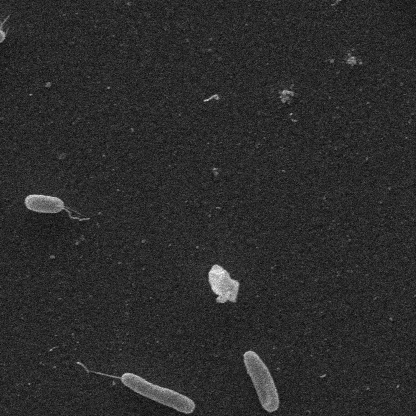cell: (120, 372, 196, 415), (242, 349, 281, 412), (206, 261, 238, 303), (389, 0, 416, 44), (22, 192, 64, 214), (0, 19, 7, 47), (0, 400, 9, 416)
nanowire: (76, 361, 127, 383), (63, 209, 92, 224), (0, 0, 9, 32)
